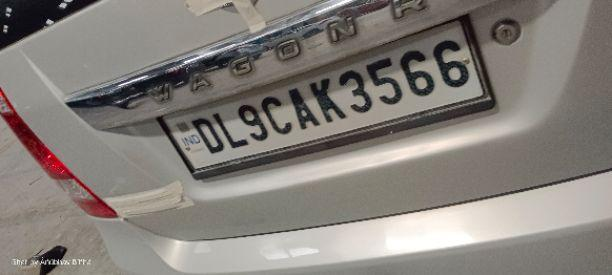license_plate: (0, 0, 610, 272), (156, 12, 496, 180)
